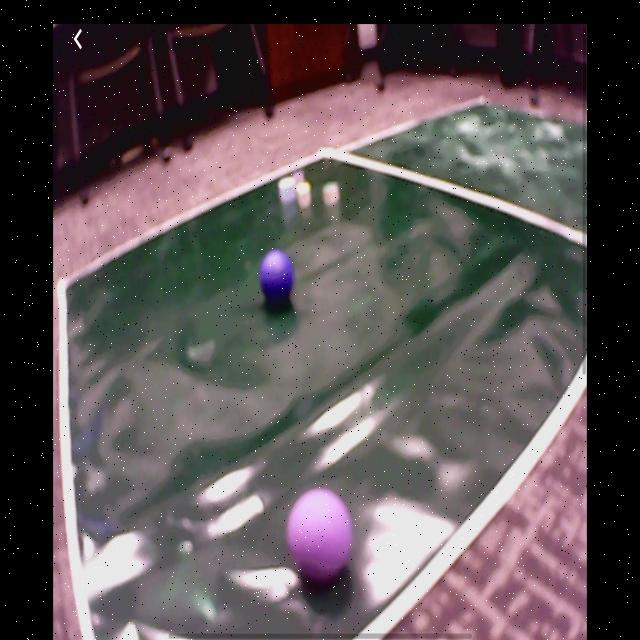ball: (287, 488, 352, 586), (260, 250, 293, 302)
